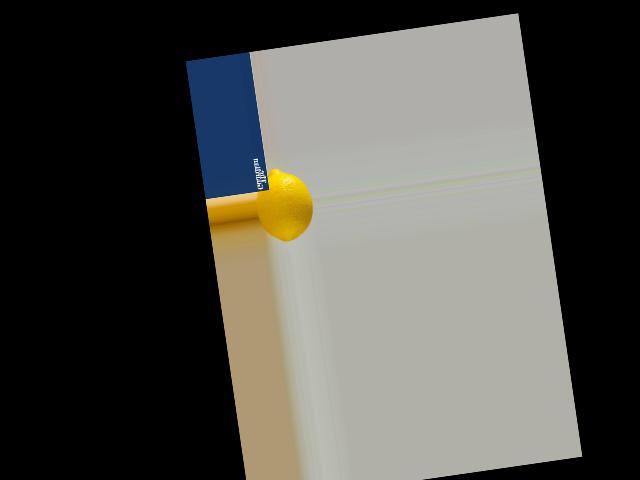lemon: (251, 165, 317, 245)
